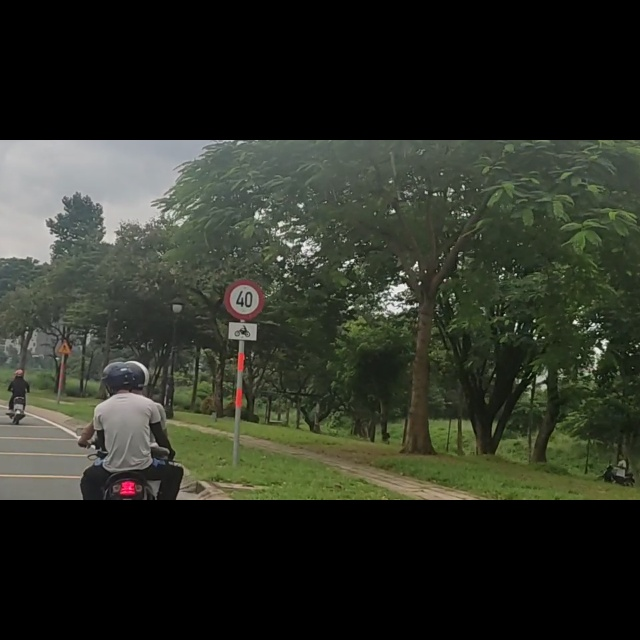bien_nguy_hiem: (224, 248, 267, 321), (57, 354, 73, 380)
